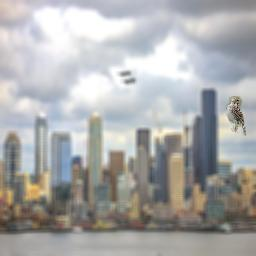Sparrow: (226, 96, 246, 136)
